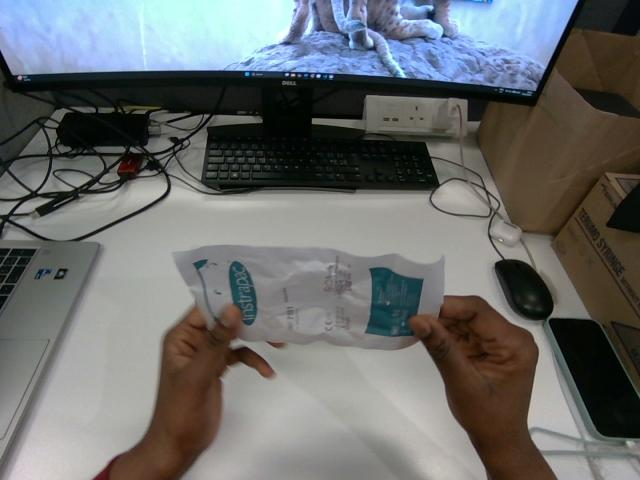gallipot: (173, 245, 443, 349)
